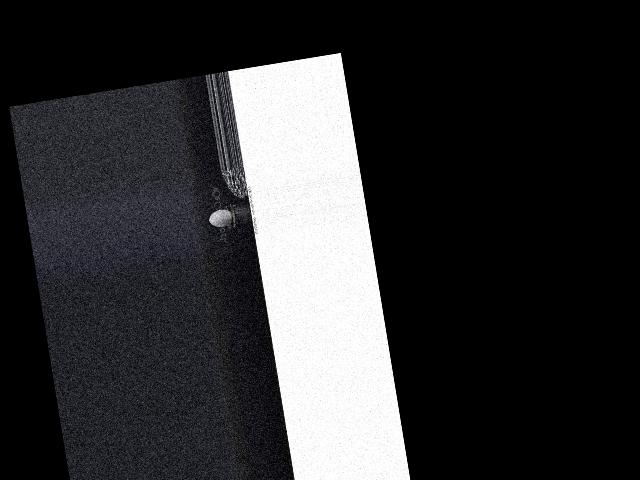egg: (208, 208, 234, 229)
